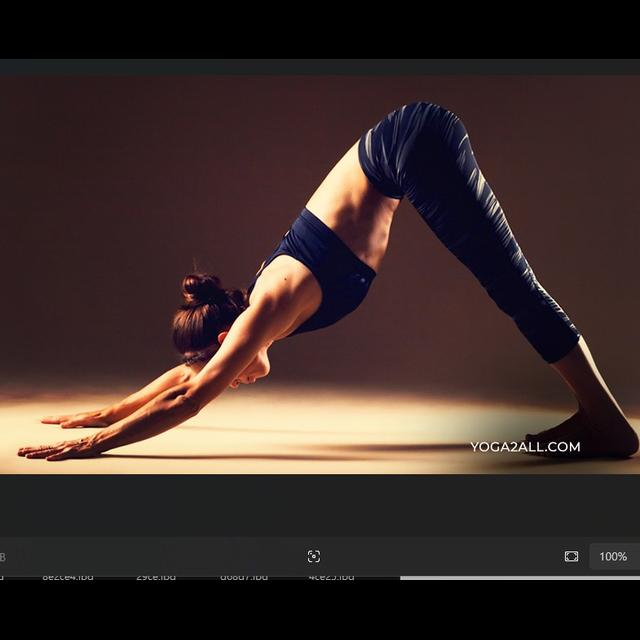Downward-Facing_Dog: (16, 98, 640, 462)
